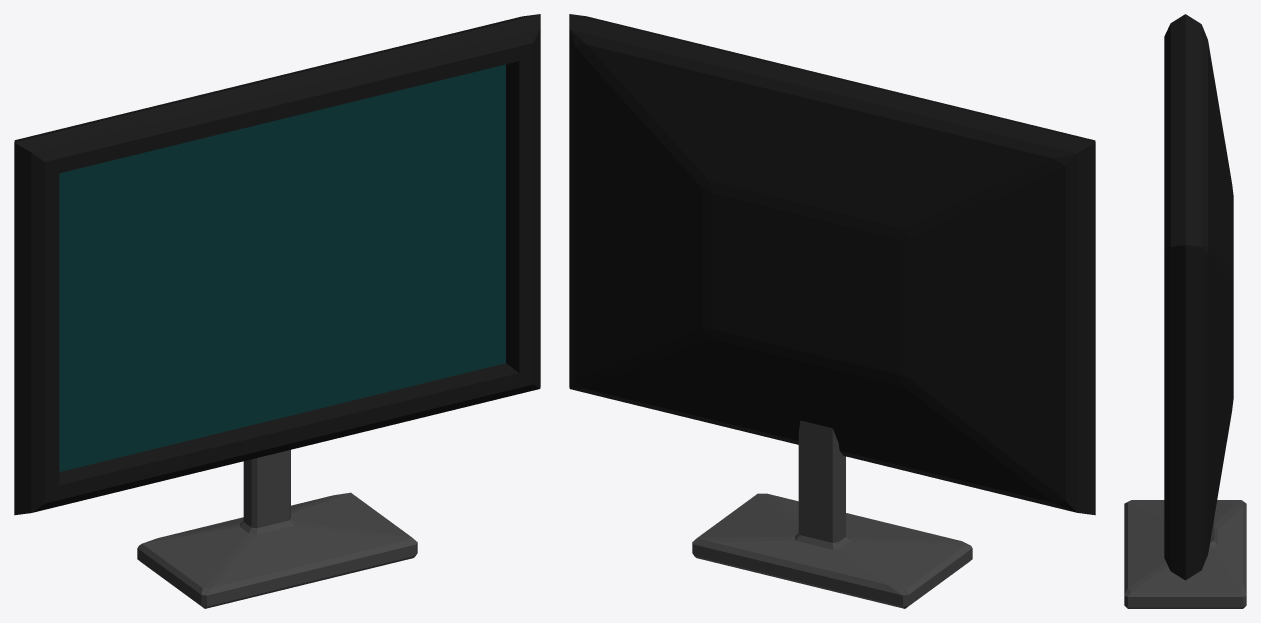
File: hh_monitor.glb
3 views of the same model, side by side, from view 1: azimuth 30°, elevation 25°; view 2: azimuth 150°, elevation 25°; view 3: azimuth 270°, elevation 25° (orthographic). The views are drawn at different scales.
Visible parts, largest first — view 1: Monitor; view 2: Monitor; view 3: Monitor.
Boxes of the visible parts, x1=… form: Monitor: x1=14, y1=14, x2=540, y2=608; Monitor: x1=569, y1=14, x2=1095, y2=608; Monitor: x1=1124, y1=14, x2=1246, y2=608.
Size of the model in its own units: 0.907 by 0.7936 by 0.2032.
